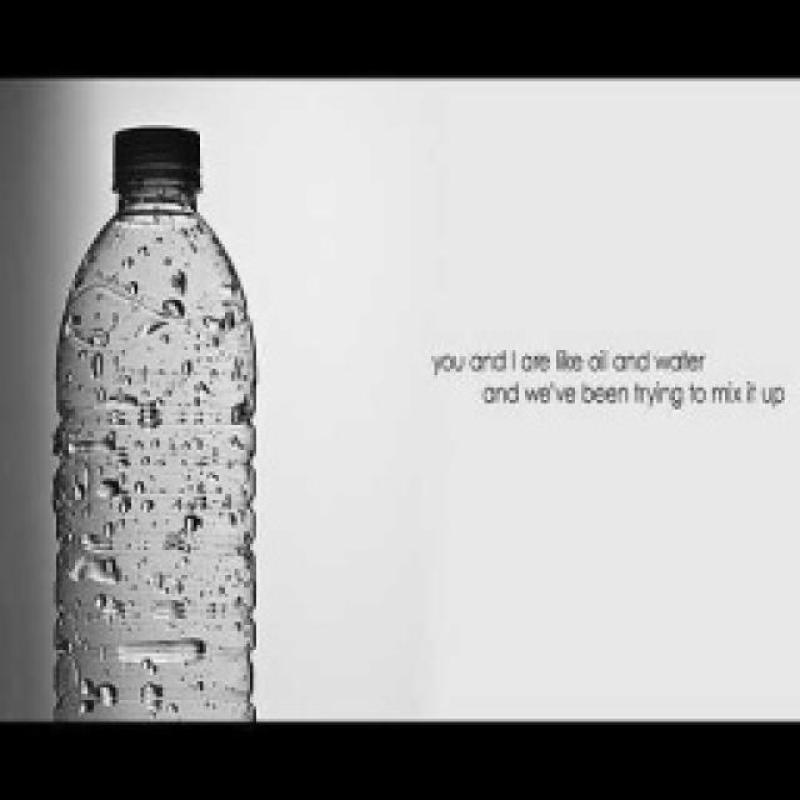botella: (49, 127, 261, 721)
